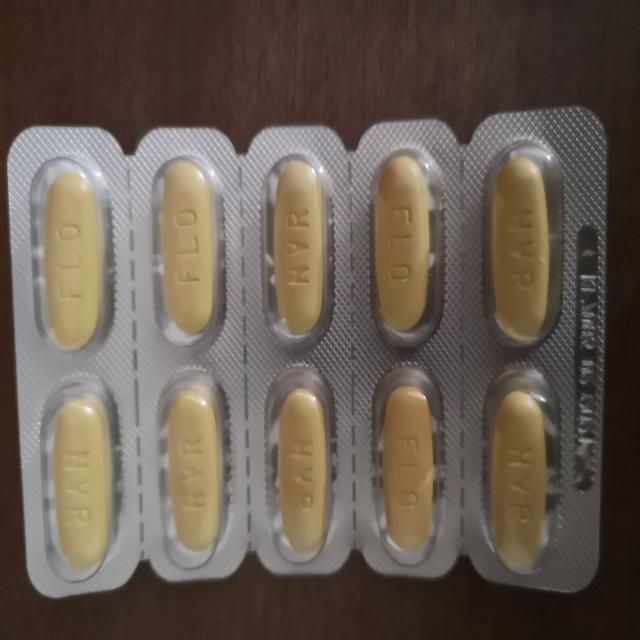Pill: (31, 373, 121, 589), (481, 146, 568, 352), (25, 154, 110, 356), (363, 364, 448, 566), (477, 369, 558, 578), (260, 360, 342, 565), (150, 362, 233, 564), (145, 154, 230, 349), (255, 153, 340, 346), (365, 150, 441, 345)
